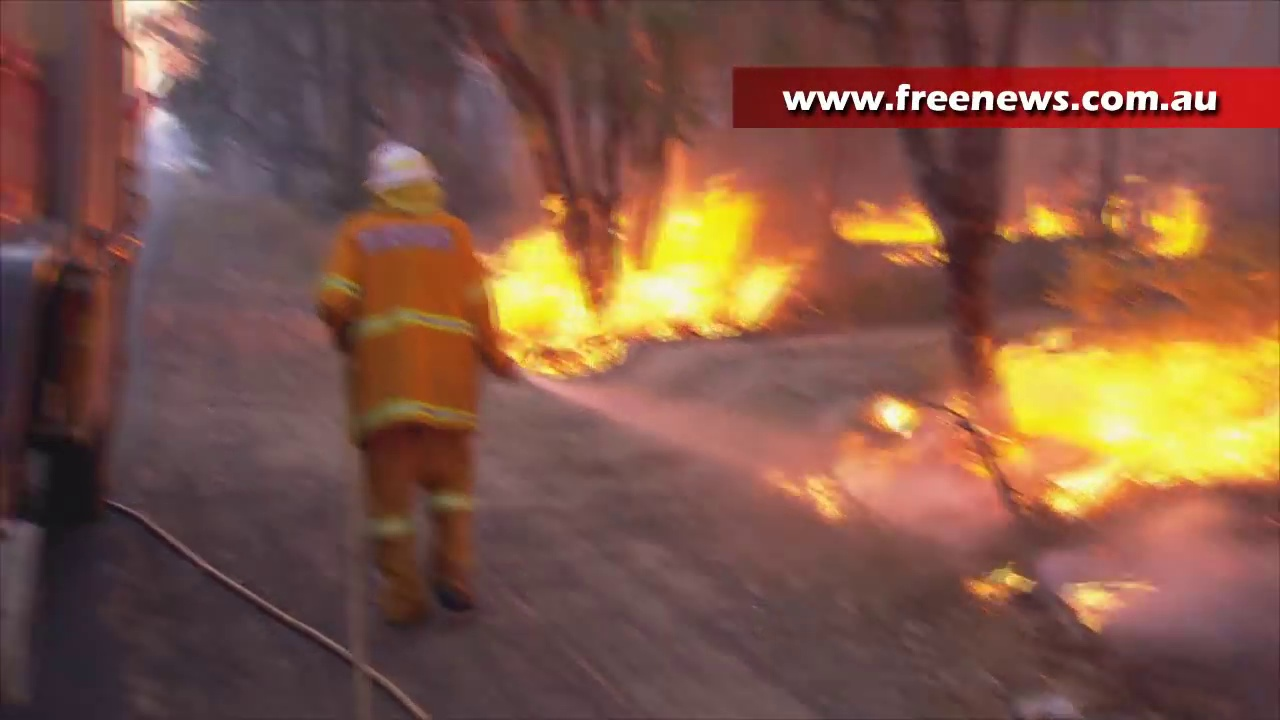fire: (989, 331, 1280, 514), (491, 195, 791, 361), (837, 200, 938, 255), (1141, 173, 1206, 254), (1025, 196, 1075, 242)
